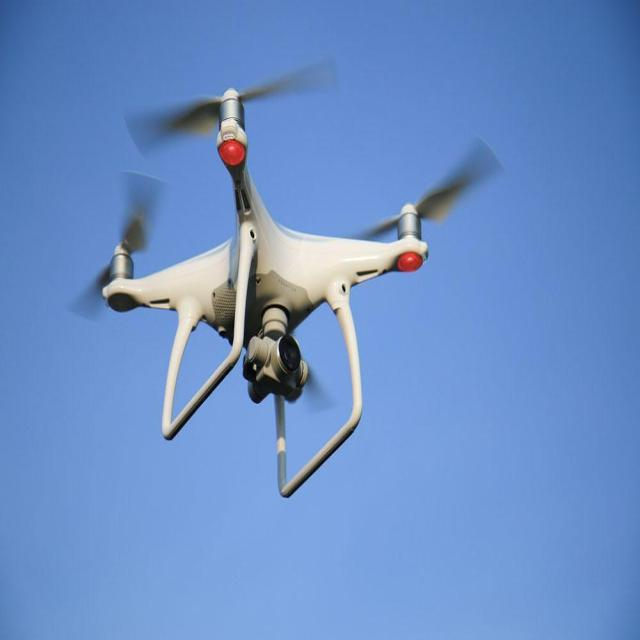drone: (66, 55, 506, 502)
